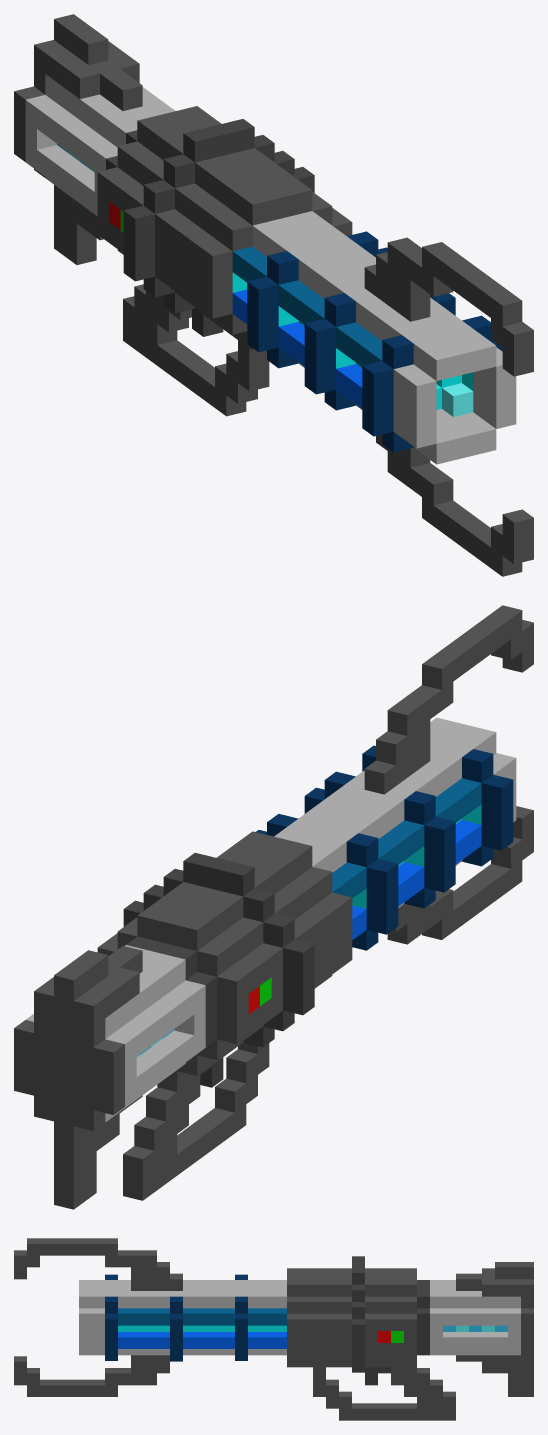
The model's file is stun.glb.
The picture shows the model from 3 angles, top to bottom: view 1: azimuth 30°, elevation 25°; view 2: azimuth 150°, elevation 25°; view 3: azimuth 270°, elevation 25°; orthographic projection. The views are drawn at different scales.
Parts seen in each view (by area): view 1: Object_2; view 2: Object_2; view 3: Object_2.
Part boxes in pixels (box(x1,y1,x2,y2)): Object_2: box(14, 14, 533, 576); Object_2: box(14, 605, 533, 1209); Object_2: box(14, 1238, 533, 1420).
Size of the model in its own units: 0.9 by 1.5 by 4.
Materials: 1 (1 with a texture image).
